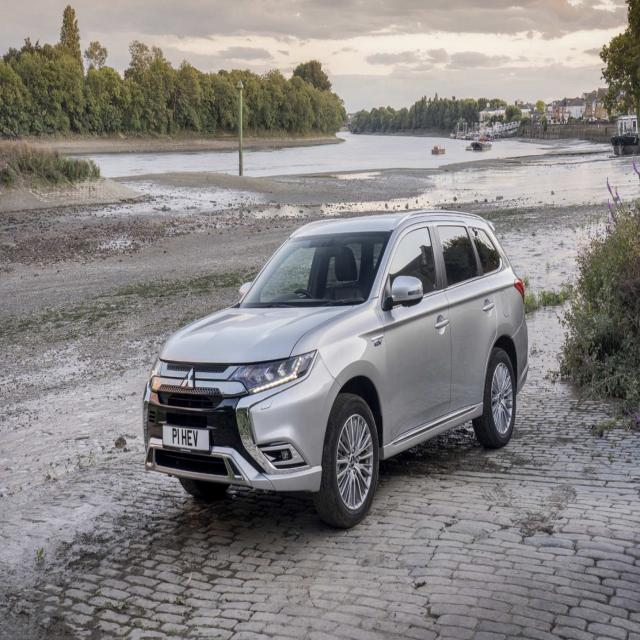light_vehicle: (142, 207, 530, 527)
